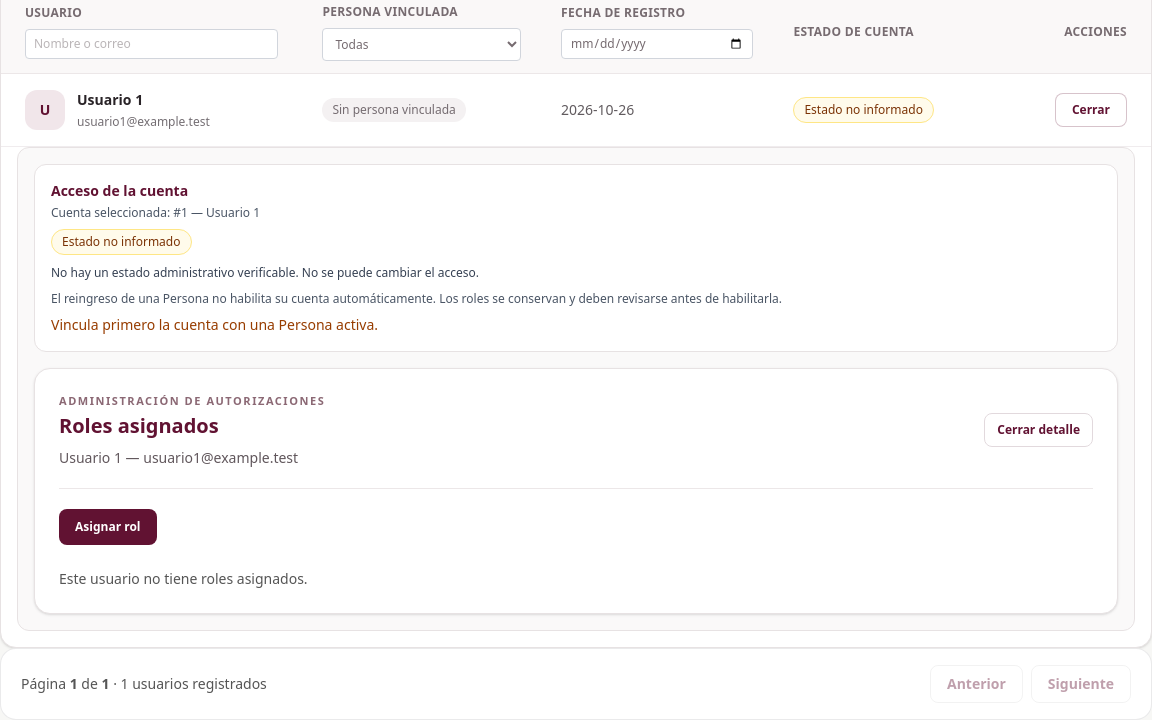
Test: UsersPageComponent › consulta el catalogo con ambos permisos
(page scrolled)
Click the button with test id "assign-user-role".
click(108, 527)  # box [59,509,156,545]
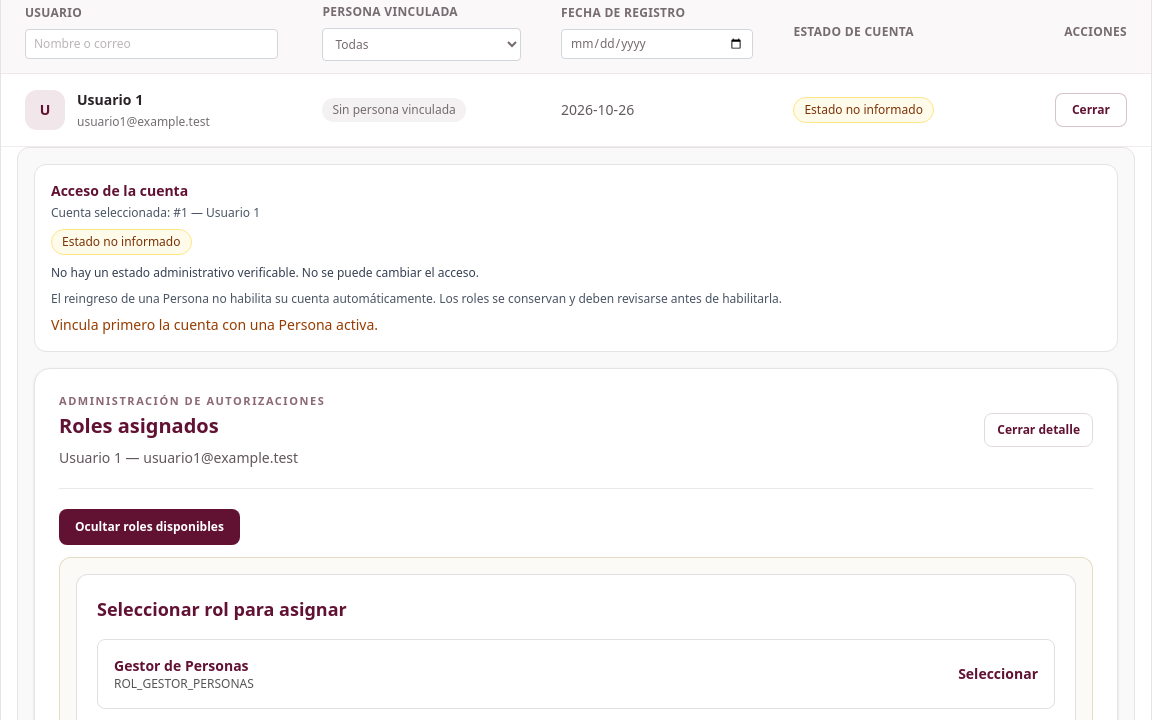
Now the button with test id "select-available-role" is shown, box [97,639,1055,709]
